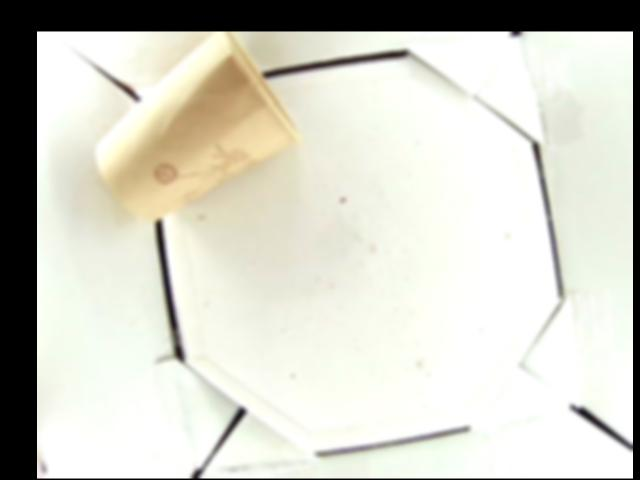Cup: (95, 32, 296, 225)
